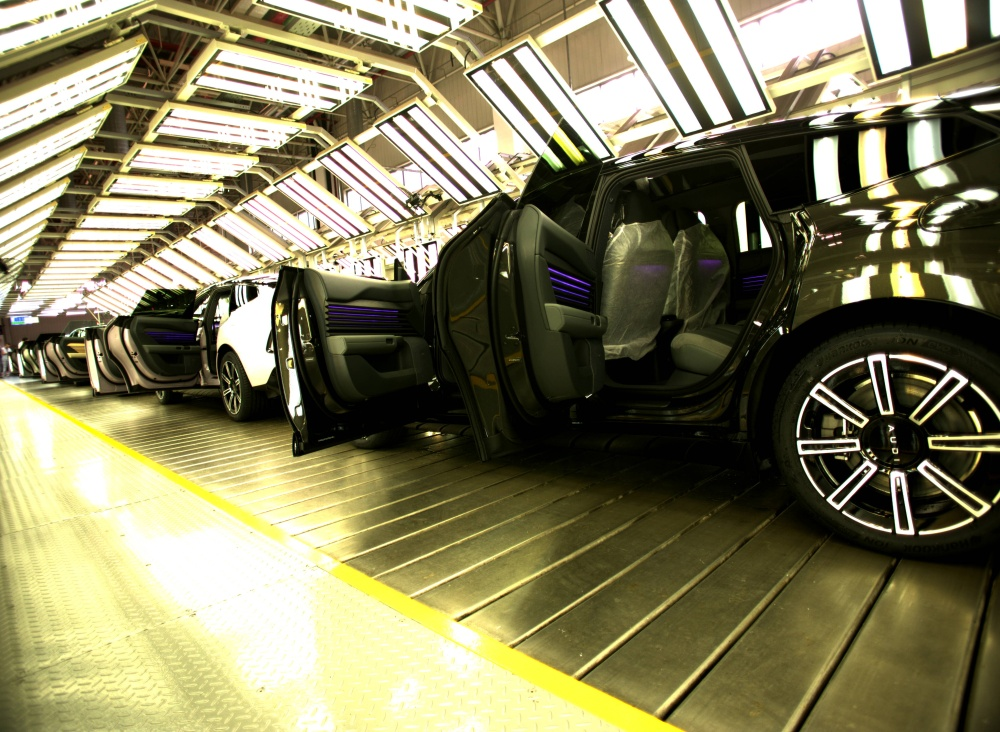armrest_color: (542, 301, 610, 337), (328, 334, 419, 354)
panel_color: (323, 296, 410, 334), (544, 257, 599, 313)
